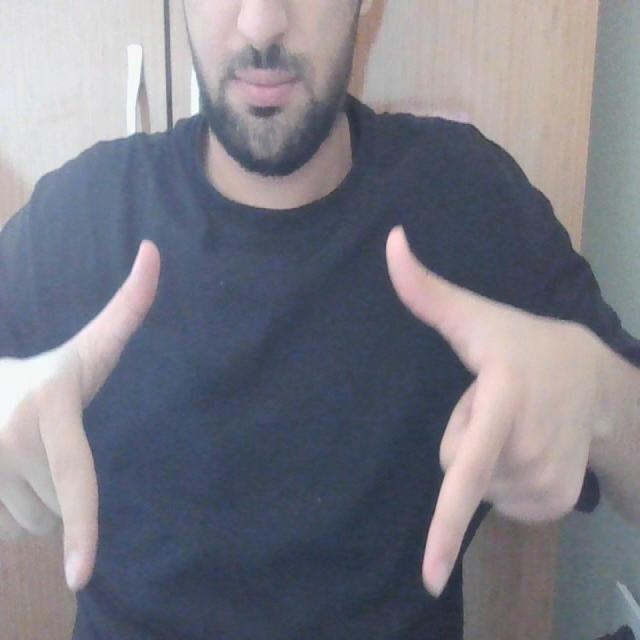Nerede: (22, 221, 523, 603)
